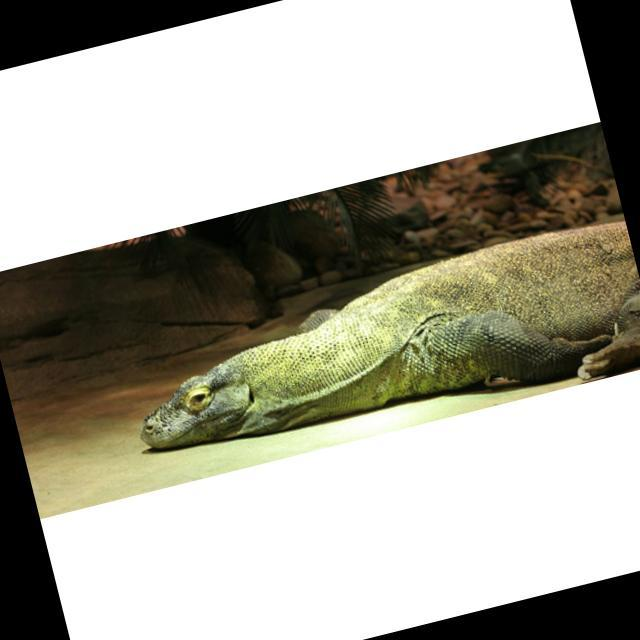KomodoDragon: (119, 214, 640, 487)
